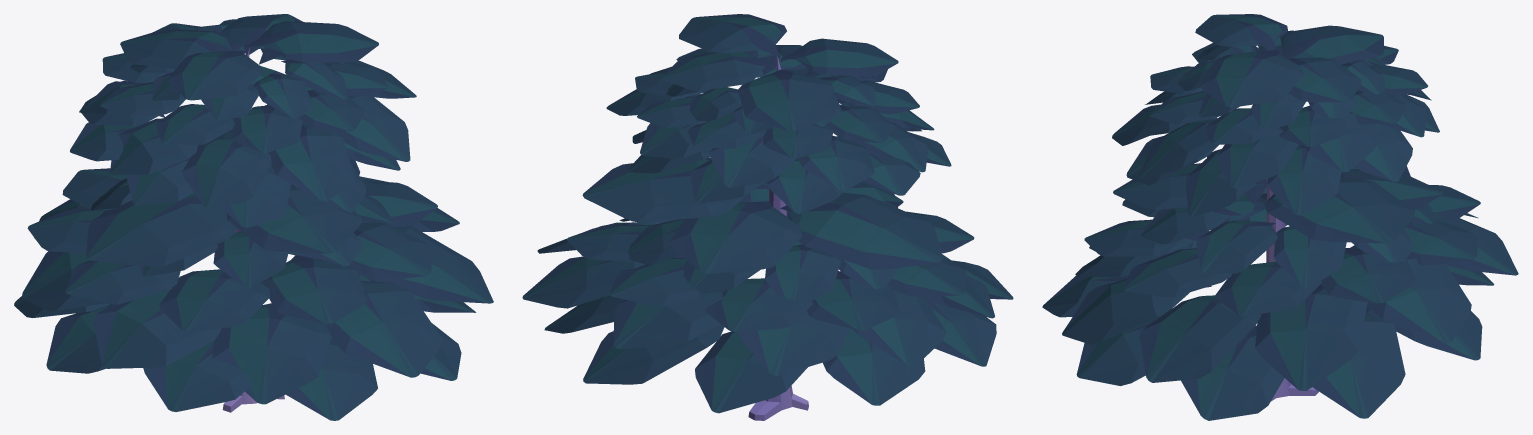
The model's file is Garden_HousePlant14.fbx.
3 views of the same model, side by side, from view 1: azimuth 30°, elevation 25°; view 2: azimuth 150°, elevation 25°; view 3: azimuth 270°, elevation 25° (orthographic). The views are drawn at different scales.
Parts seen in each view (by area): view 1: Cylinder.225; view 2: Cylinder.225; view 3: Cylinder.225.
Boxes of the visible parts, box(x1,y1,x2,y2) form: Cylinder.225: box(14, 14, 493, 420); Cylinder.225: box(522, 14, 1013, 420); Cylinder.225: box(1042, 14, 1518, 420).
Bounding box in the file's own units: 149 × 121 × 148.
